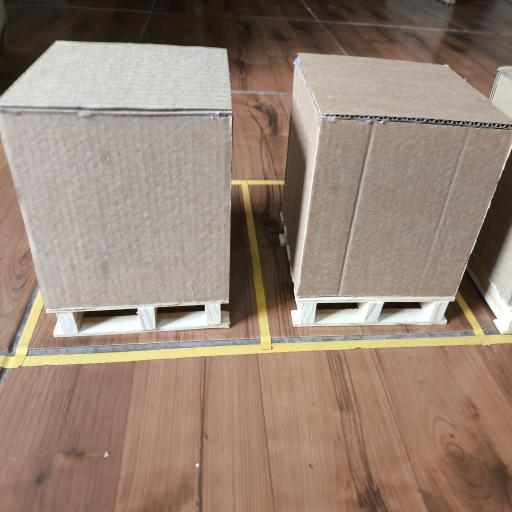pallet: (47, 303, 229, 337), (291, 294, 454, 327), (467, 255, 511, 334)
